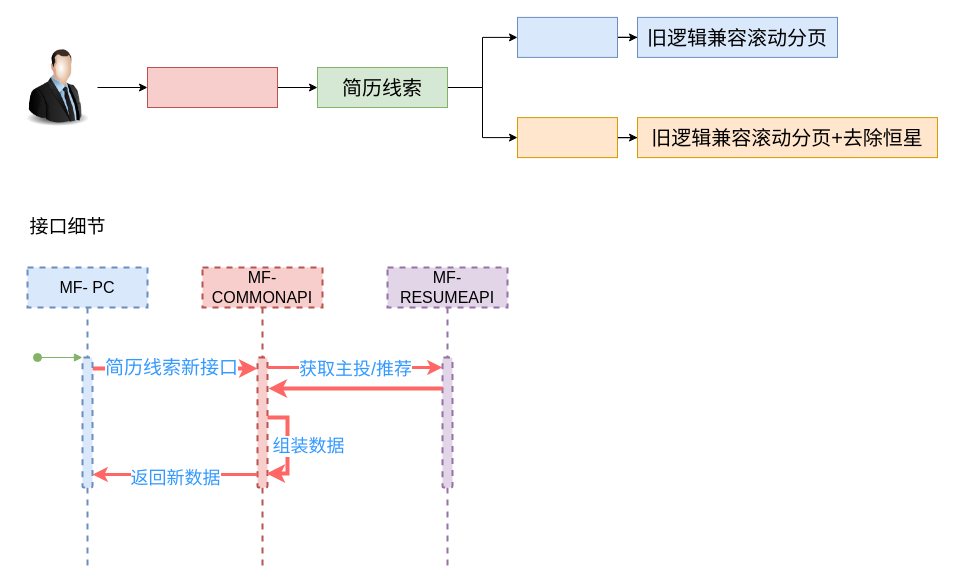
The diagram is 955 pixels wide and 586 high, and some of its shapes have lost their labels. Here are the shapes that lost their labels. From the top down, the box of each, then its label:
(516, 16, 618, 57): 主投简历
(146, 66, 278, 108): 邀约管理
(516, 117, 618, 158): 付费推荐
